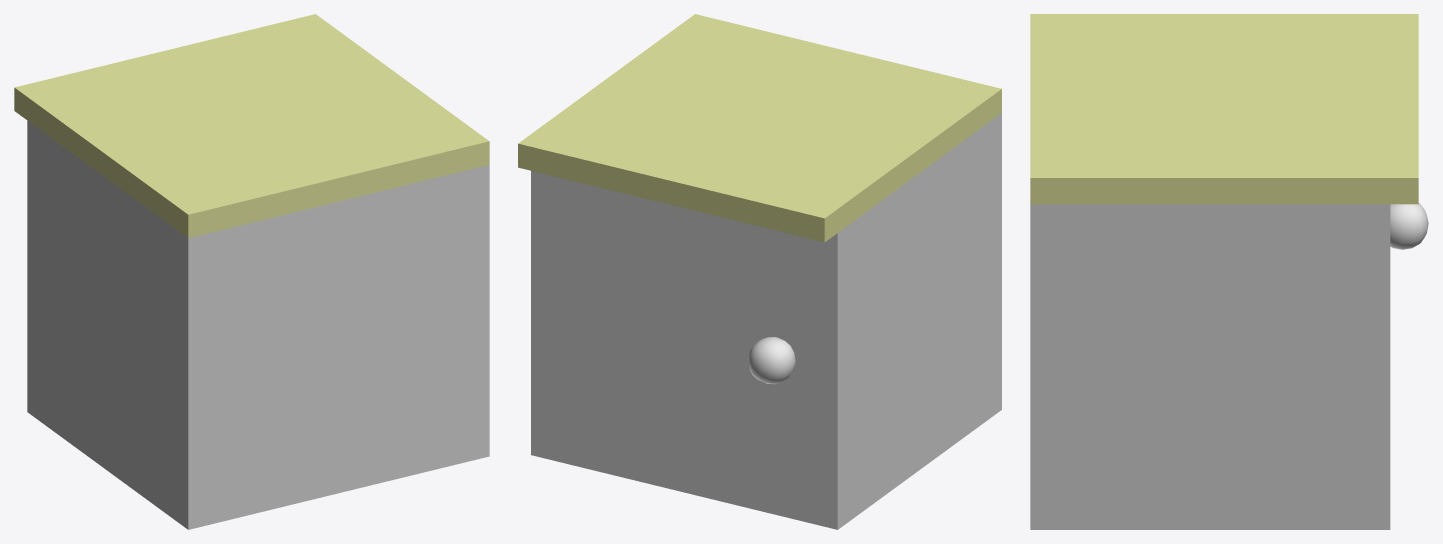
File: bancada.fbx
3 renders of one model, left to right at view 1: azimuth 30°, elevation 25°; view 2: azimuth 150°, elevation 25°; view 3: azimuth 270°, elevation 25°, orthographic. The views are drawn at different scales.
Parts seen in each view (by area): view 1: Cube; view 2: Cube; view 3: Cube.
Part boxes in pixels (bbox=[...]): Cube: bbox=[14, 14, 489, 529]; Cube: bbox=[518, 14, 1001, 529]; Cube: bbox=[1030, 14, 1428, 529].
Bounding box in the file's own units: 75 × 75 × 76.93.
